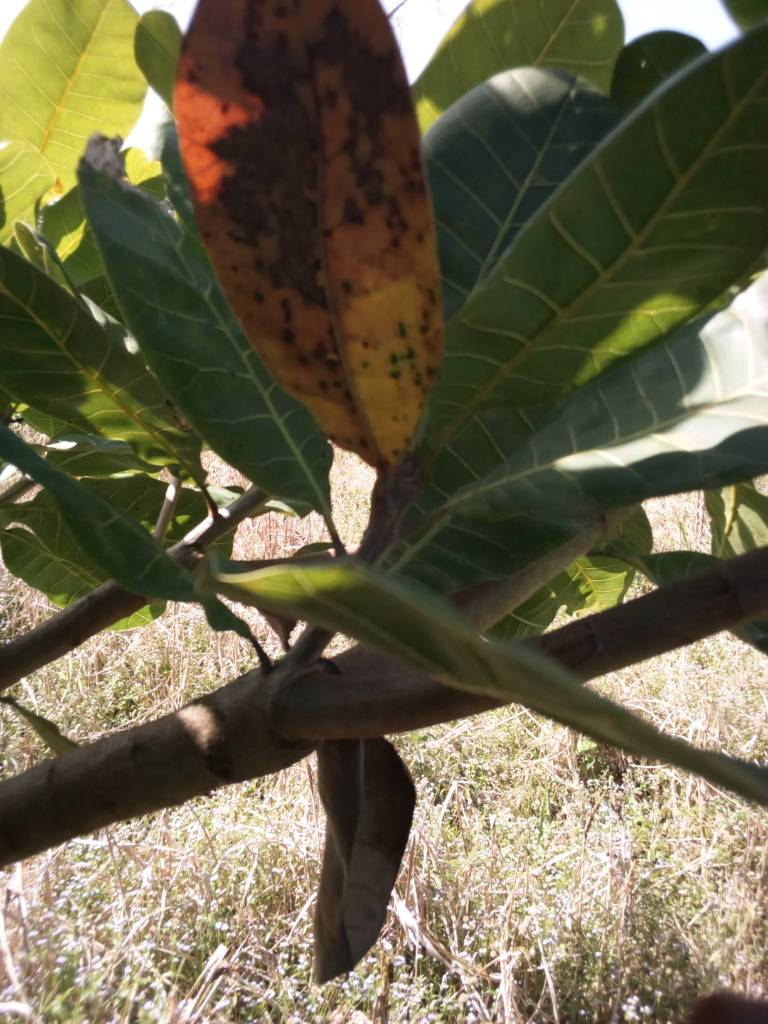Anthracnose: (175, 1, 441, 458)
